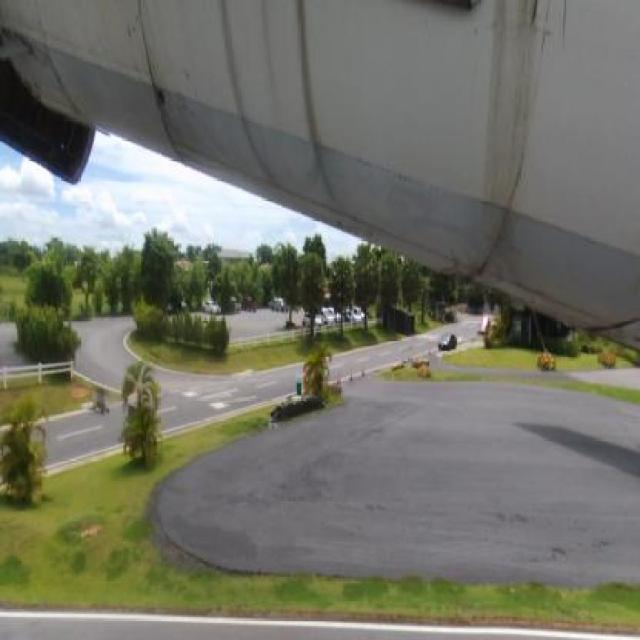Rust: (478, 0, 555, 298), (201, 0, 284, 209), (275, 0, 356, 214), (128, 17, 202, 171), (5, 16, 77, 118), (579, 308, 639, 359)
